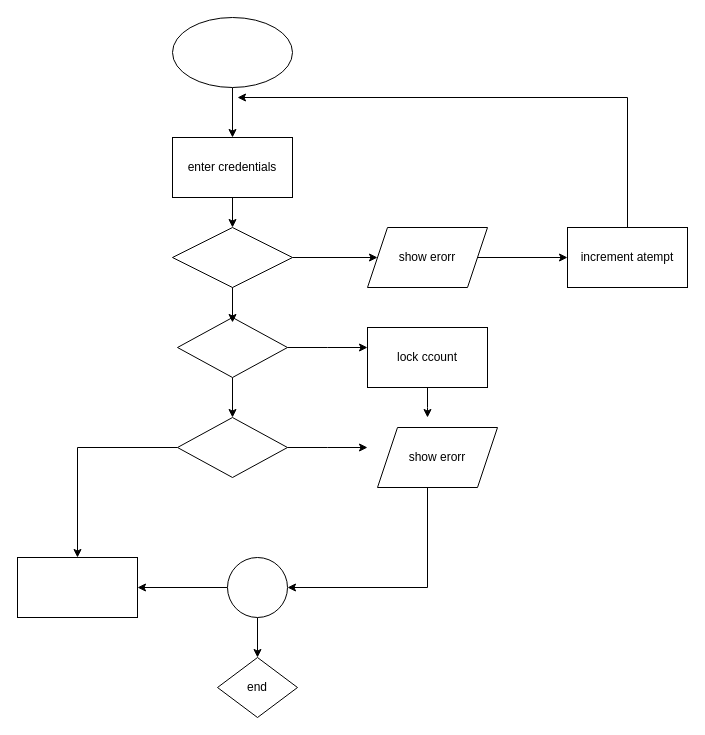
Image size: 705x735. Some labels were removed from this diagram. The shapes that lost their labels are listed below. From the top down, each one's box as (x1, y1, x2, y2) in pixels, then its label:
(172, 16, 292, 88): start
(172, 226, 292, 288): is user name valid
(176, 316, 288, 378): is psswod correct
